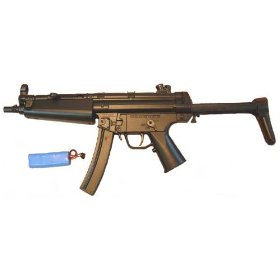rifle: (8, 79, 276, 189)
